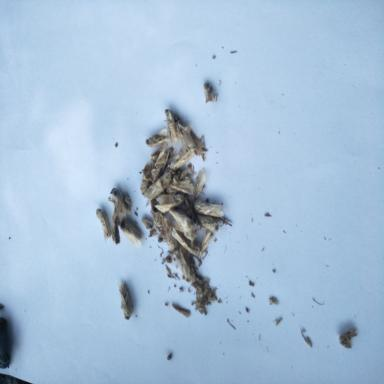pbw: (169, 205, 198, 242), (144, 170, 172, 199), (109, 186, 132, 219), (175, 115, 196, 151), (151, 146, 172, 182), (167, 146, 195, 172), (120, 217, 144, 247), (154, 192, 186, 214), (178, 244, 196, 282), (193, 198, 225, 219), (161, 215, 179, 252), (118, 279, 133, 320), (95, 208, 112, 242), (163, 107, 178, 144), (169, 174, 195, 195), (190, 130, 208, 160), (144, 128, 169, 148), (139, 162, 154, 195), (197, 229, 214, 258), (196, 212, 220, 232), (194, 167, 207, 201), (110, 206, 120, 246), (147, 206, 163, 228)
